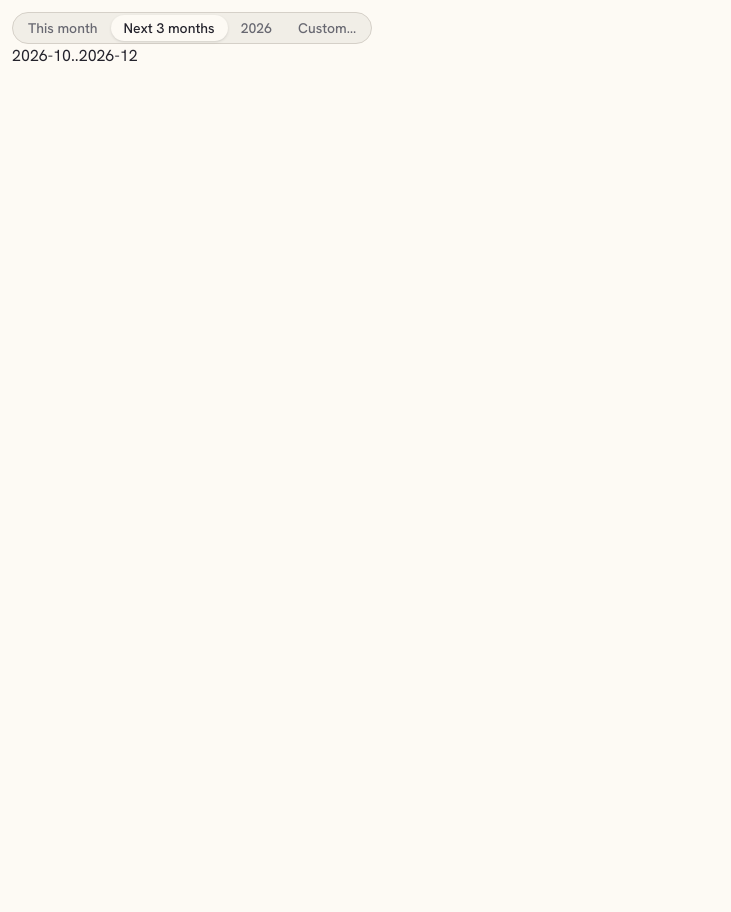
it: MonthRangeSelect › opens Custom on the current range and picks months across a year boundary
Click the tab "Custom…".
click(327, 28)  # box 285,15 -> 369,41
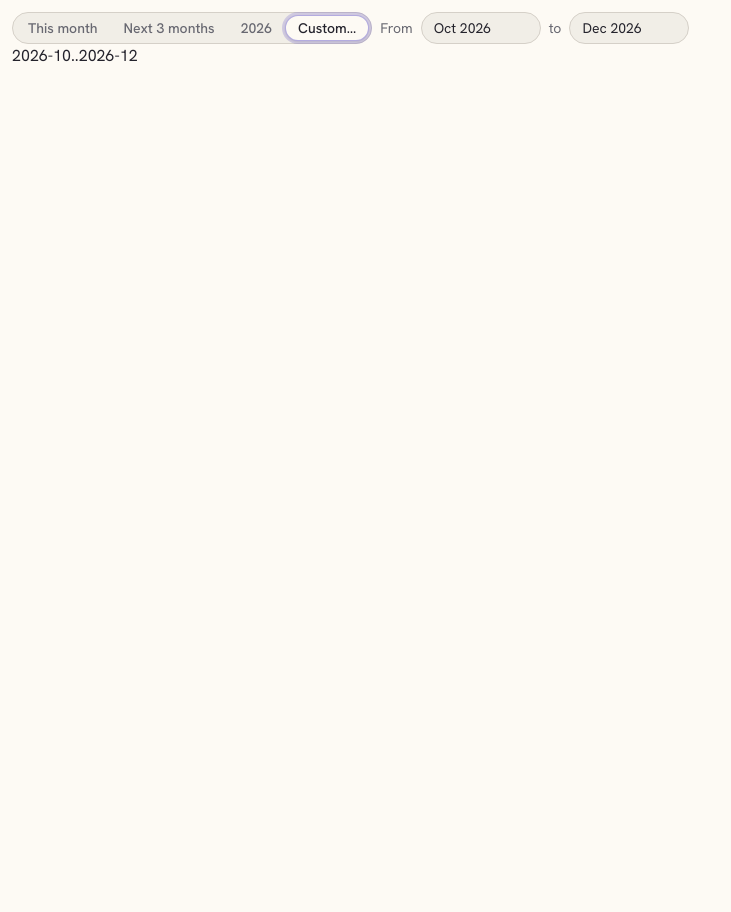
Check: the dropdown named "From" reads "Oct 2026"
Check: the dropdown named "To" reads "Dec 2026", box 569,12 -> 689,44
Click the dropdown named "From".
click(481, 28)  # box 421,12 -> 541,44
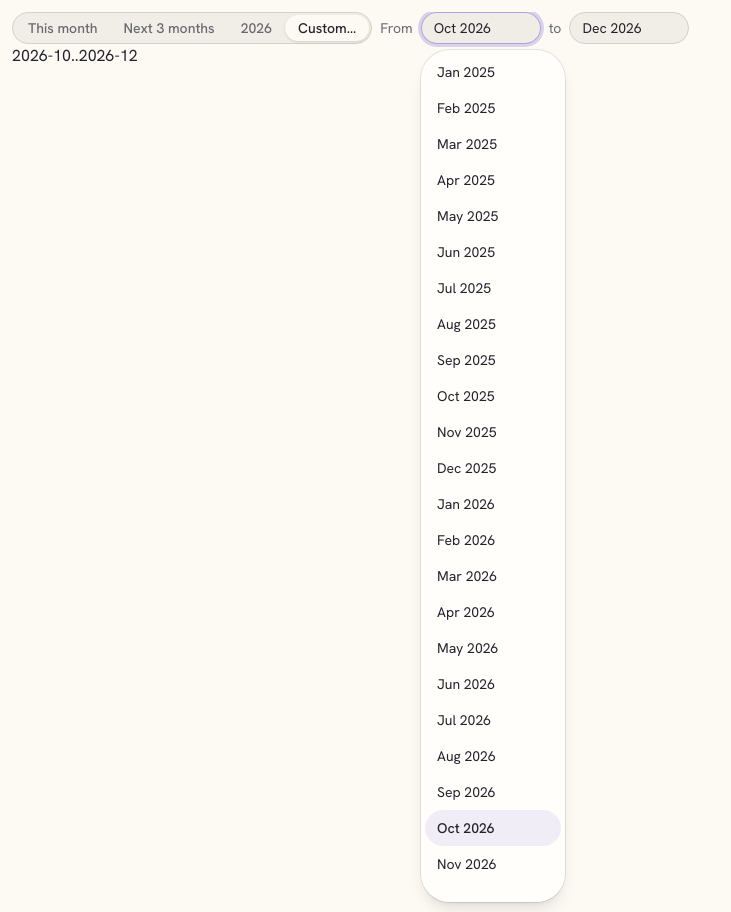
Click the option "Nov 2026".
click(467, 864)  # box 437,855 -> 497,873
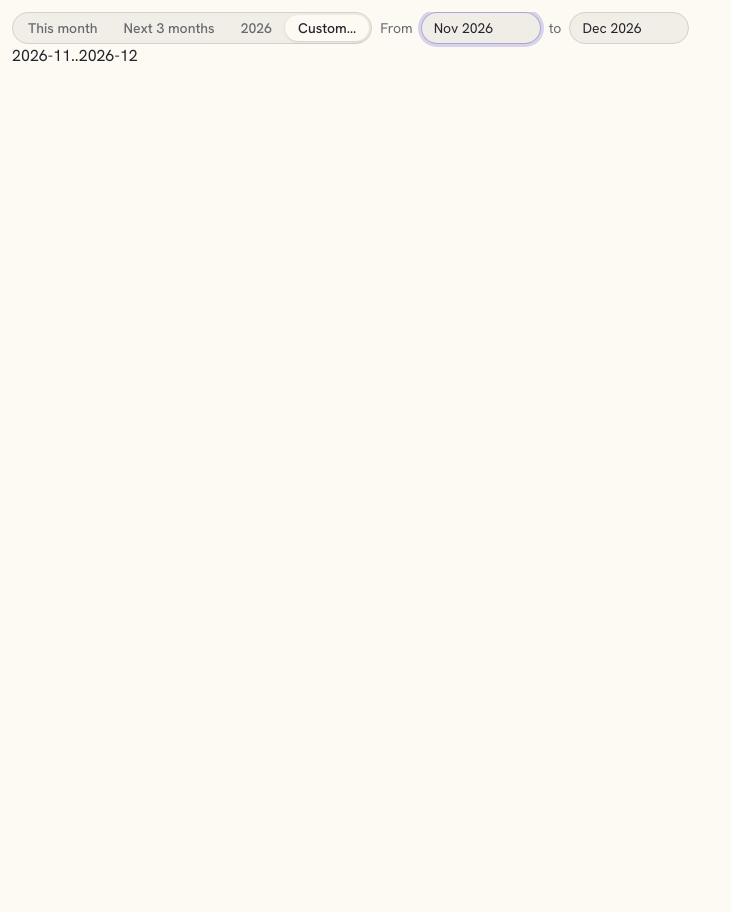
Click the dropdown named "To".
click(629, 28)  # box 569,12 -> 689,44
(page scrolled)
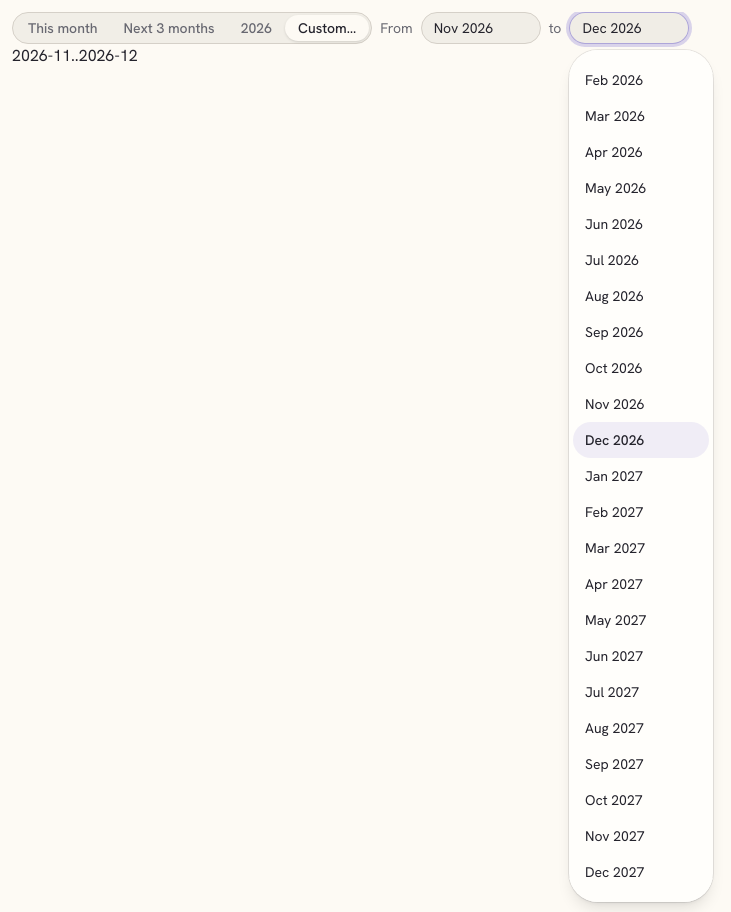
Click the option "Jan 2027".
click(614, 476)  # box 585,467 -> 643,485
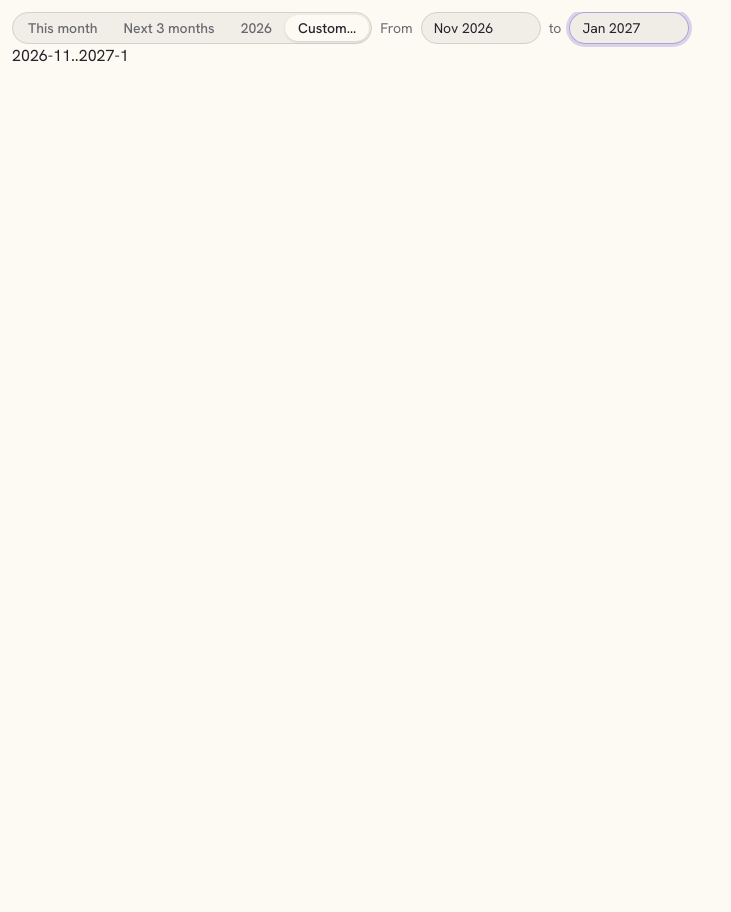
Check: the text with test id "range" reads "2026-11..2027-1", box 12,45 -> 129,66
